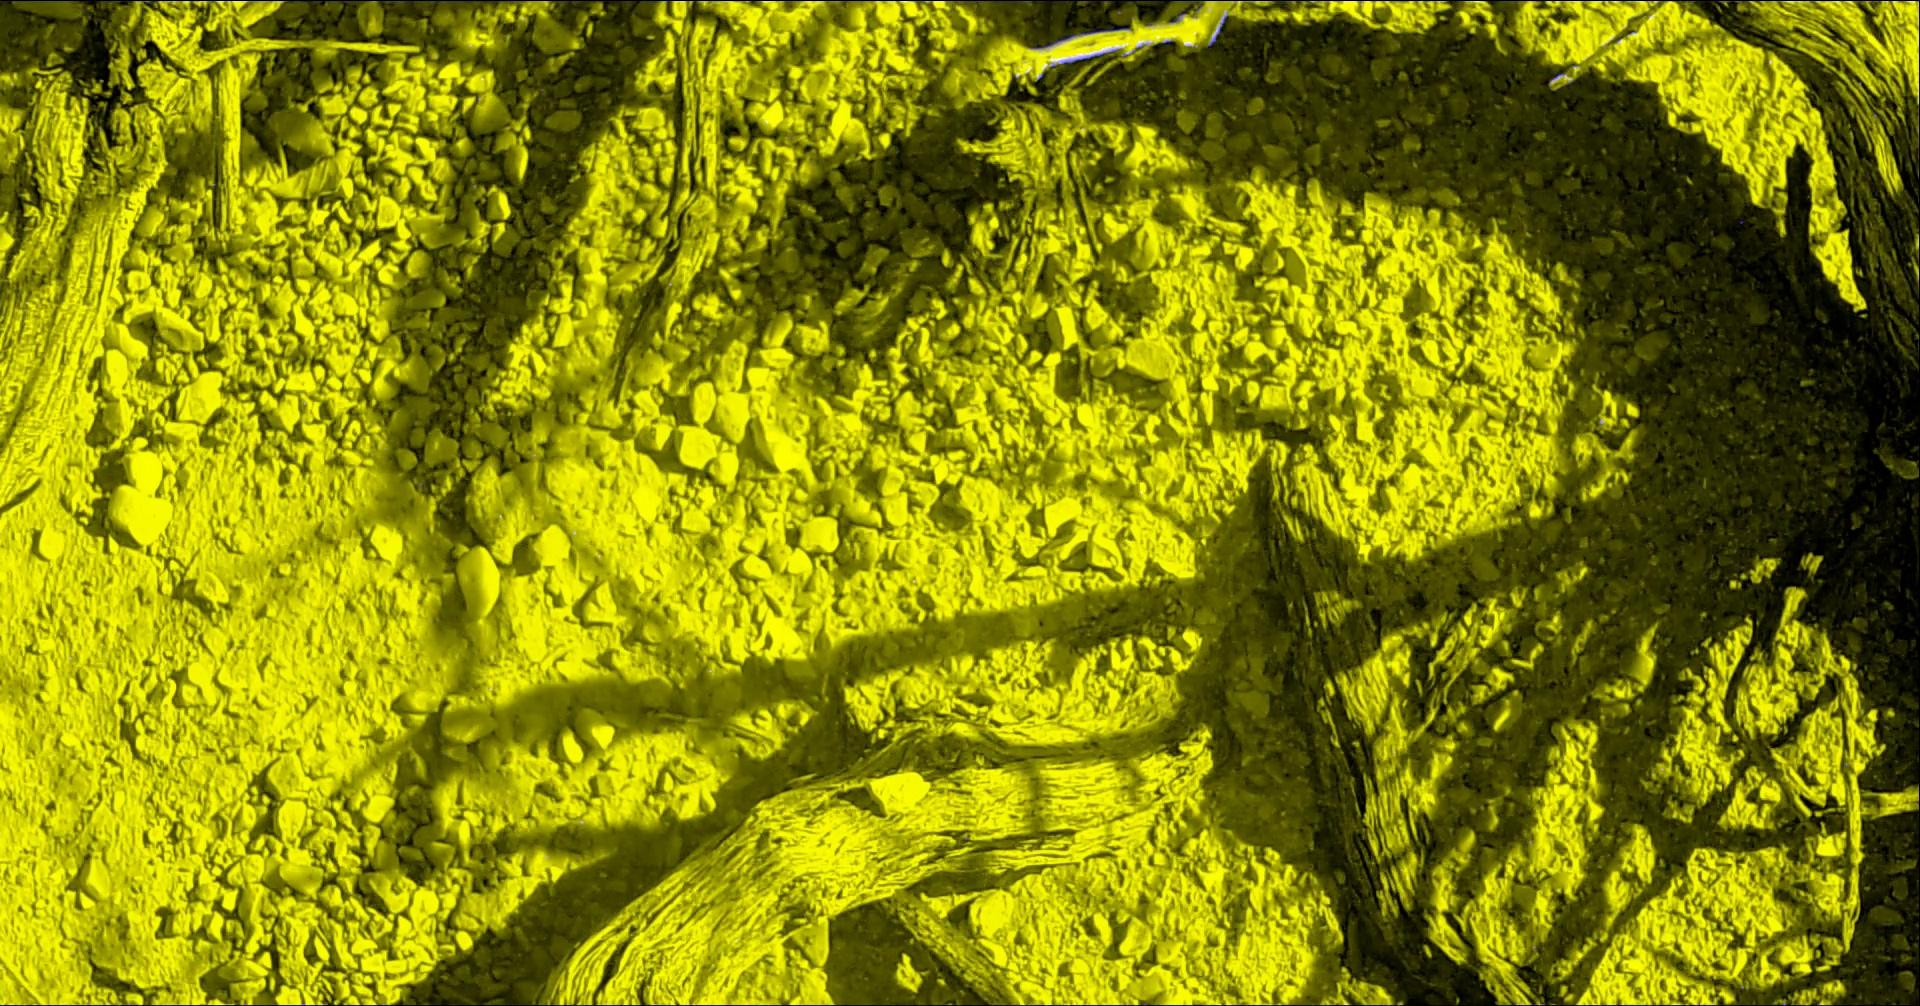ant: (1032, 25, 1131, 48), (378, 0, 465, 1), (13, 0, 79, 1)
